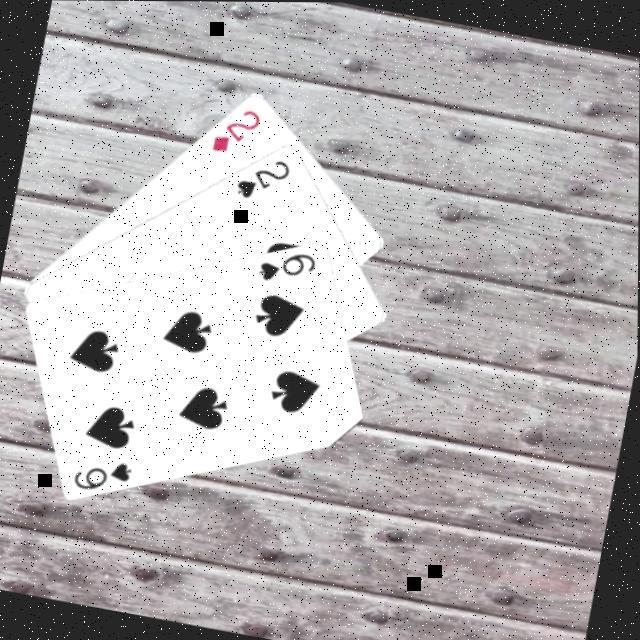2D: (206, 100, 264, 162)
2S: (230, 149, 294, 208)
6S: (252, 242, 320, 292), (68, 450, 136, 500)
